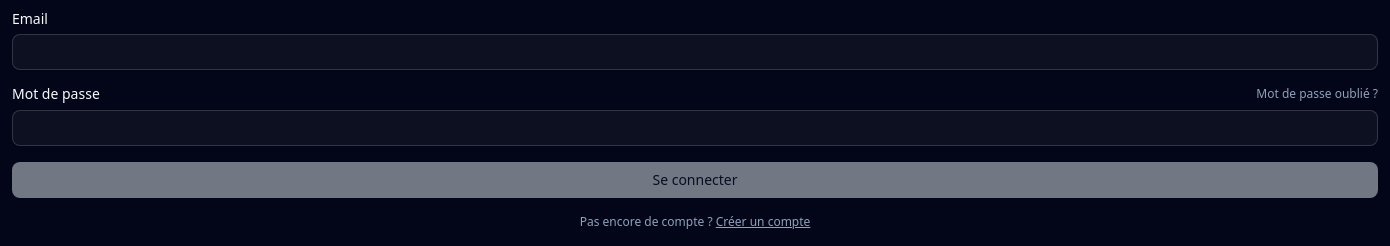
Test: EmailPasswordForm › enables submit when both fields are filled
The image size is (1390, 246).
Step 1. Type "me@example.com" into the field labelled "Email" → (695, 52), box [12,34,1378,70]
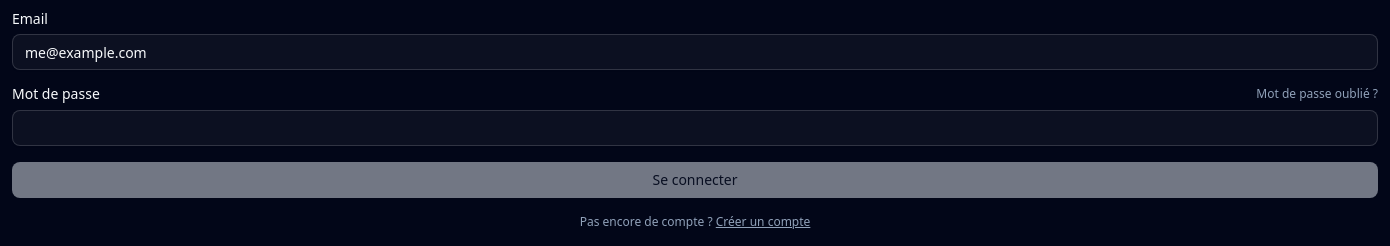
Step 2. Type "pass1234" into the password field labelled "Mot de passe" → (695, 128), box [12,110,1378,146]
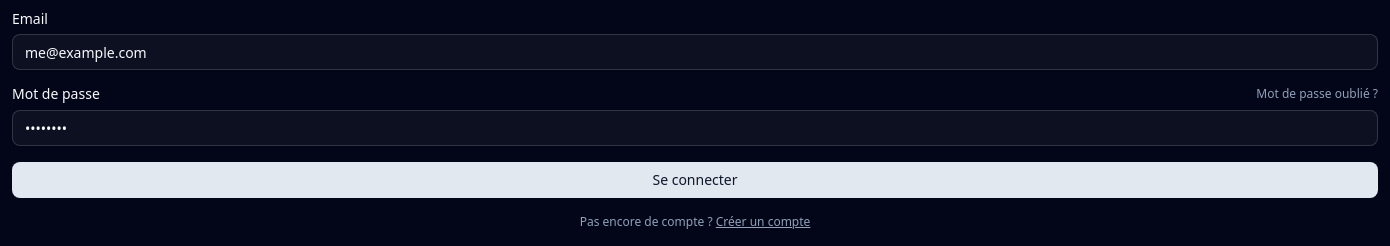
Expected: the button "Se connecter" is enabled, [12,162,1378,198]
